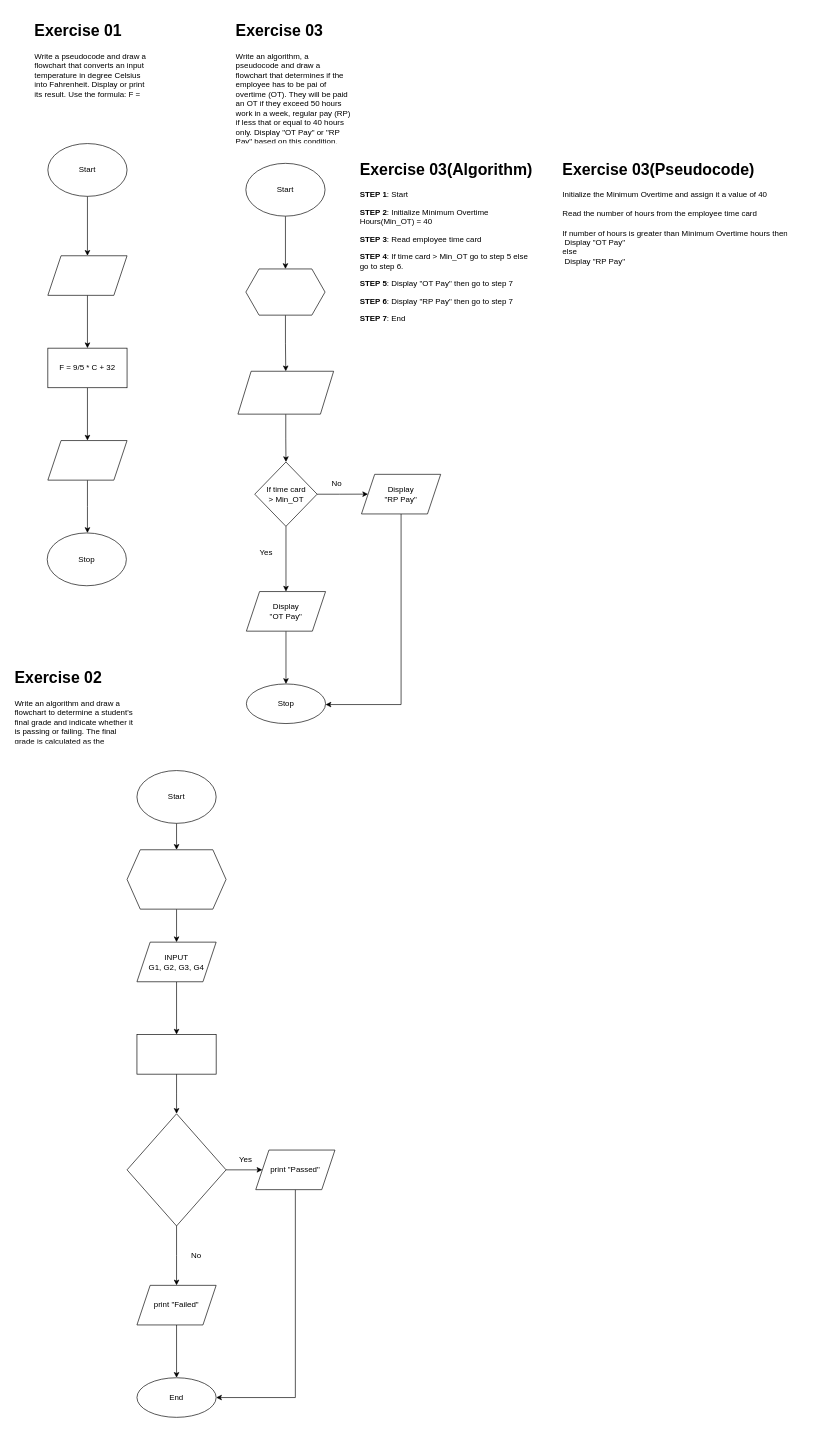
The diagram is 834 pixels wide and 1429 high, and some of its shapes have lost their labels. Here are the shapes that lost their labels. From the top down, the box of each, then its label:
(47, 255, 127, 295): Input C
(245, 268, 325, 315): Initialization Min_OT = 40hrs
(237, 371, 334, 414): Read employee time card
(47, 440, 127, 480): Print F
(126, 849, 226, 909): INITIALIZATION G1, G2, G3, G4, passingScore = 75 , Final_Grade
(136, 1034, 216, 1074): Final_Grade = (G1 + G2 + G3 + G4) / 4
(126, 1113, 226, 1226): if Final_Grade >= 75
